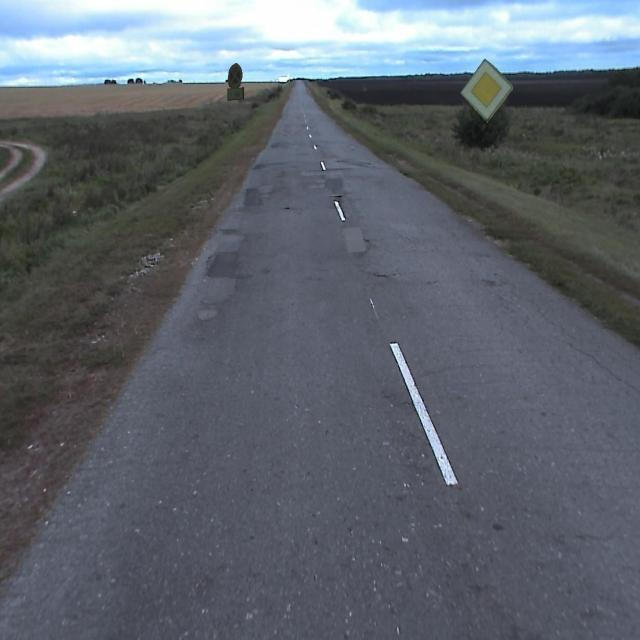road: (0, 81, 639, 639)
